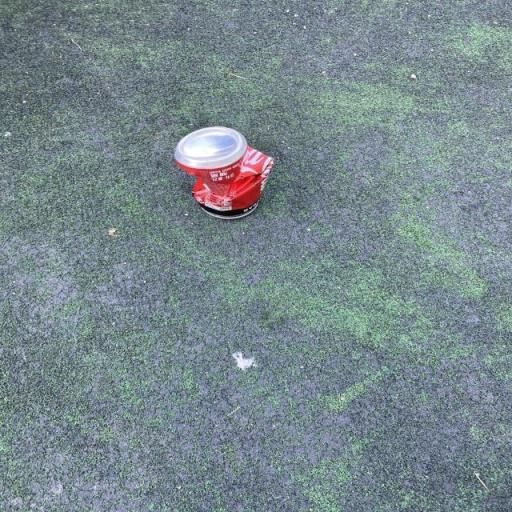metal: (149, 90, 293, 236)
